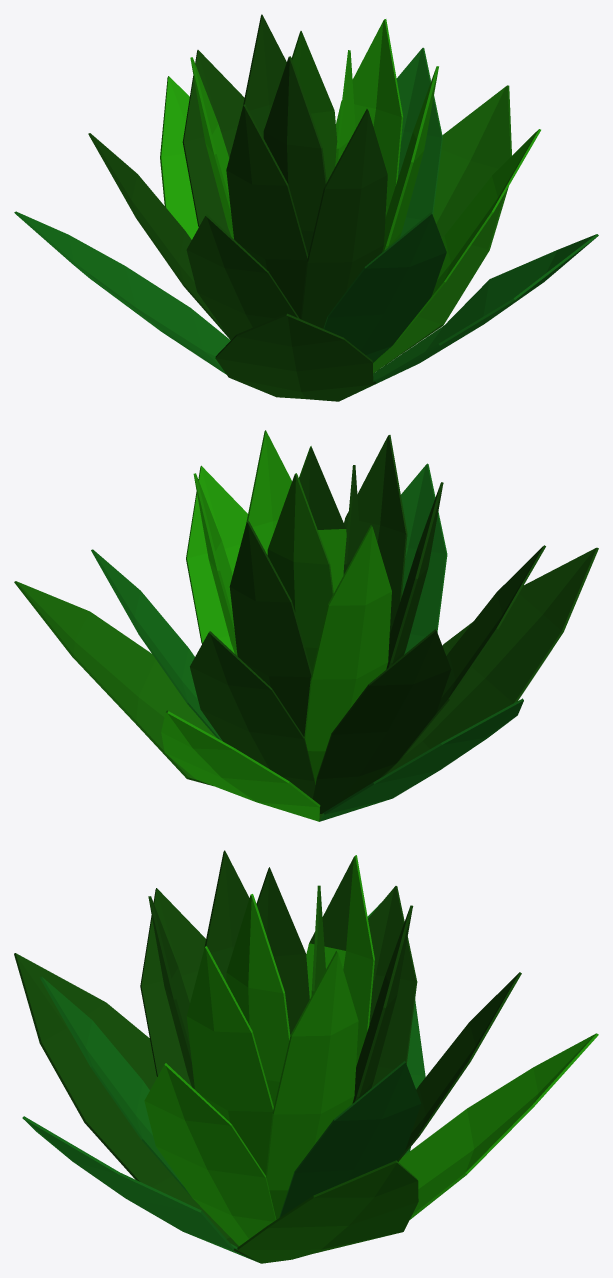
Rendered from grass-5.glb.
3 views of the same model, one above another, from view 1: azimuth 30°, elevation 25°; view 2: azimuth 150°, elevation 25°; view 3: azimuth 270°, elevation 25° (orthographic). The views are drawn at different scales.
Visible parts, largest first — view 1: Grass 5; view 2: Grass 5; view 3: Grass 5.
Boxes of the visible parts, x1,y1,x2,y2 form: Grass 5: (14, 14, 598, 401); Grass 5: (14, 430, 598, 821); Grass 5: (14, 850, 598, 1263).
Size of the model in its own units: 3.57 by 2.29 by 3.39.
